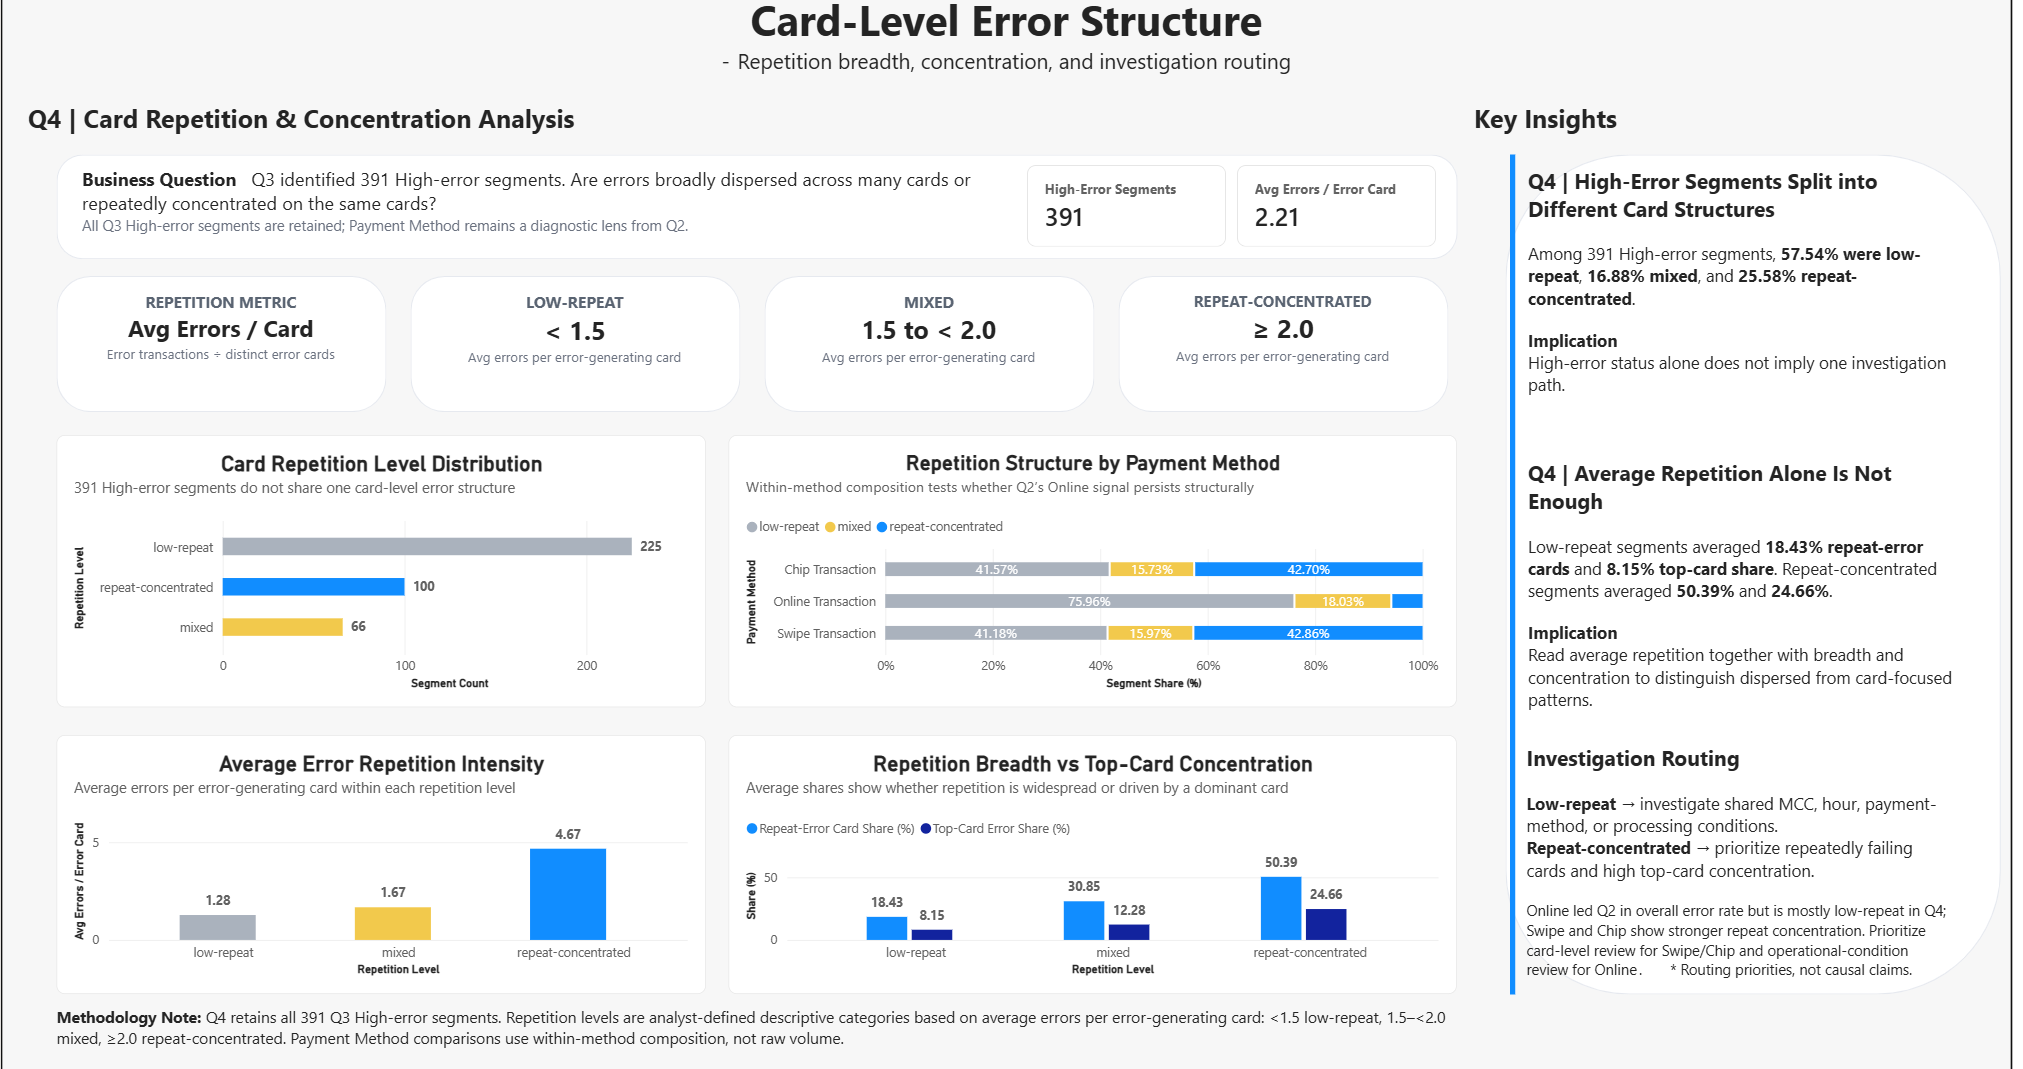

Layout of this report page (visuals, bound fields, positions):
{"tool":"powerbi","page":{"name":"04 Card-Level Error Structure","canvas":[1920,1080],"ordinal":3},"visuals":[{"type":"textbox","box":[521.5,0,877,113],"z":6000},{"type":"textbox","box":[25.4,104.4,1365.1,52.2],"z":6100},{"type":"shape","box":[52.6,155.7,1337.7,100],"z":6200},{"type":"textbox","box":[77,167,865,78],"z":6250},{"type":"cardVisual","fields":{"Data":["Dax_Measures.Flagged Segment Count"]},"box":[980,166,190,78],"z":6260},{"type":"cardVisual","fields":{"Data":["Avg(Q4 Segment Analysis.avg_errors_per_error_card)"]},"box":[1180,166,190,78],"z":6270},{"type":"shape","box":[52.6,272,315,130],"z":6300},{"type":"shape","box":[390.6,272,315,130],"z":6301},{"type":"shape","box":[728.6,272,315,130],"z":6302},{"type":"shape","box":[1066.6,272,315,130],"z":6303},{"type":"textbox","box":[67.6,286,285,102],"z":6350},{"type":"textbox","box":[405.6,286,285,102],"z":6360},{"type":"textbox","box":[743.6,286,285,102],"z":6370},{"type":"textbox","box":[1081.6,286,285,102],"z":6380},{"type":"shape","box":[1436,156.6,473,802],"z":6800},{"type":"shape","box":[1441.3,156.6,5,802],"z":6810},{"type":"textbox","box":[1405.8,104.2,473,51.7],"z":6820},{"type":"textbox","box":[1458,168,405,255],"z":6830},{"type":"textbox","box":[1457.4,437.6,405,285],"z":6840},{"type":"textbox","box":[1457.4,732,405.5,238.2],"z":6850},{"type":"clusteredBarChart","title":"Card Repetition Level Distribution","fields":{"Category":["Q4 Segment Analysis.card_repetition_level"],"Y":["Dax_Measures.Flagged Segment Count"]},"box":[52.6,424,620,260],"z":7000},{"type":"hundredPercentStackedBarChart","title":"Repetition Structure by Payment Method","fields":{"Category":["Q4 Segment Analysis.use_chip"],"Series":["Q4 Segment Analysis.card_repetition_level"],"Y":["Dax_Measures.Flagged Segment Count"]},"box":[695,424,695,260],"z":7010},{"type":"clusteredColumnChart","title":"Average Error Repetition Intensity","fields":{"Category":["Q4 Segment Analysis.card_repetition_level"],"Y":["Avg(Q4 Segment Analysis.avg_errors_per_error_card)"]},"box":[52.6,710,620,247],"z":7020},{"type":"clusteredColumnChart","title":"Repetition Breadth vs Top-Card Concentration","fields":{"Category":["Q4 Segment Analysis.card_repetition_level"],"Y":["Avg(Q4 Segment Analysis.repeat_error_card_share_pct)","Avg(Q4 Segment Analysis.top_card_error_share_pct)"]},"box":[695,710,695,247],"z":7030},{"type":"textbox","box":[53,970,1337,70],"z":7300}]}

Visuals, with their boxes on the page's 1920x1080 design canvas (x1, y1, x2, y2). These are canvas units, not pixel positions in the 2023x1069 screenshot, which may show the page scaled, cropped or inside an application window:
textbox: (522,0,1398,113)
textbox: (25,104,1390,157)
shape: (53,156,1390,256)
textbox: (77,167,942,245)
cardVisual - Dax_Measures.Flagged Segment Count: (980,166,1170,244)
cardVisual - Avg(Q4 Segment Analysis.avg_errors_per_error_card): (1180,166,1370,244)
shape: (53,272,368,402)
shape: (391,272,706,402)
shape: (729,272,1044,402)
shape: (1067,272,1382,402)
textbox: (68,286,353,388)
textbox: (406,286,691,388)
textbox: (744,286,1029,388)
textbox: (1082,286,1367,388)
shape: (1436,157,1909,959)
shape: (1441,157,1446,959)
textbox: (1406,104,1879,156)
textbox: (1458,168,1863,423)
textbox: (1457,438,1862,723)
textbox: (1457,732,1863,970)
"Card Repetition Level Distribution" clusteredBarChart: (53,424,673,684)
"Repetition Structure by Payment Method" hundredPercentStackedBarChart: (695,424,1390,684)
"Average Error Repetition Intensity" clusteredColumnChart: (53,710,673,957)
"Repetition Breadth vs Top-Card Concentration" clusteredColumnChart: (695,710,1390,957)
textbox: (53,970,1390,1040)
